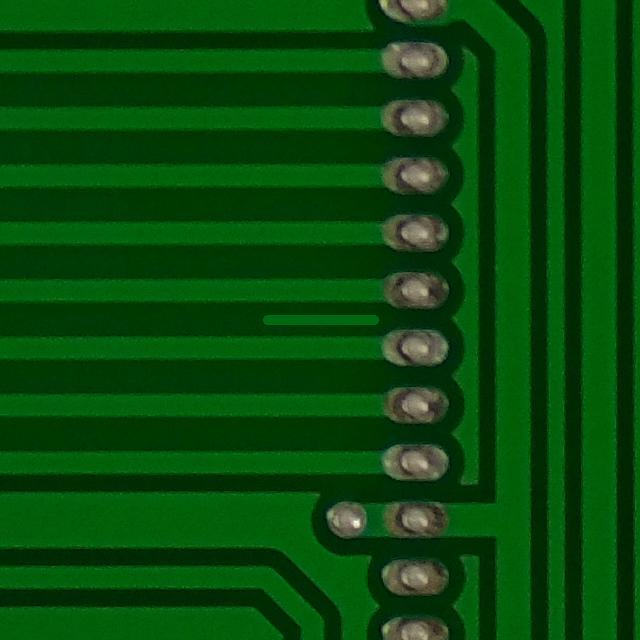spurious_copper: (257, 298, 383, 342)
